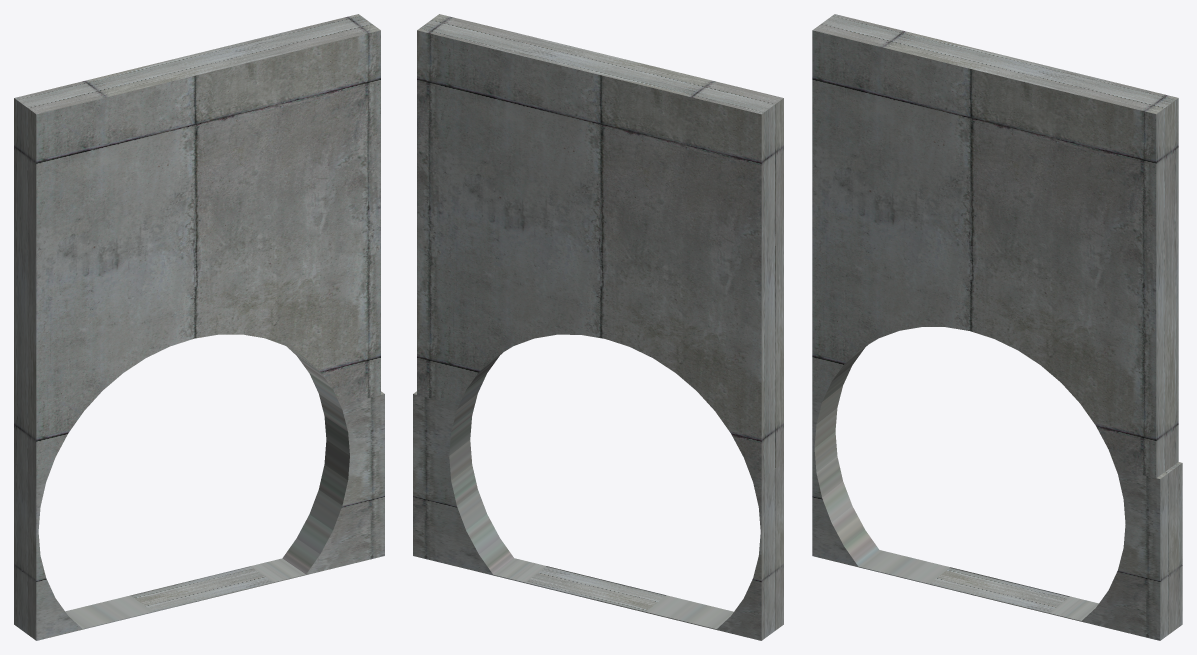
The model's file is wallDoorNew 1.fbx.
3 renders of one model, left to right at view 1: azimuth 30°, elevation 25°; view 2: azimuth 150°, elevation 25°; view 3: azimuth 330°, elevation 25°, orthographic.
Parts seen in each view (by area): view 1: Cube__55_; view 2: Cube__55_; view 3: Cube__55_.
Part boxes in pixels (<box>): Cube__55_: <box>14,14,384,640</box>; Cube__55_: <box>413,14,783,640</box>; Cube__55_: <box>812,14,1182,640</box>.
Bounding box in the file's own units: 900 × 1300 × 100.
